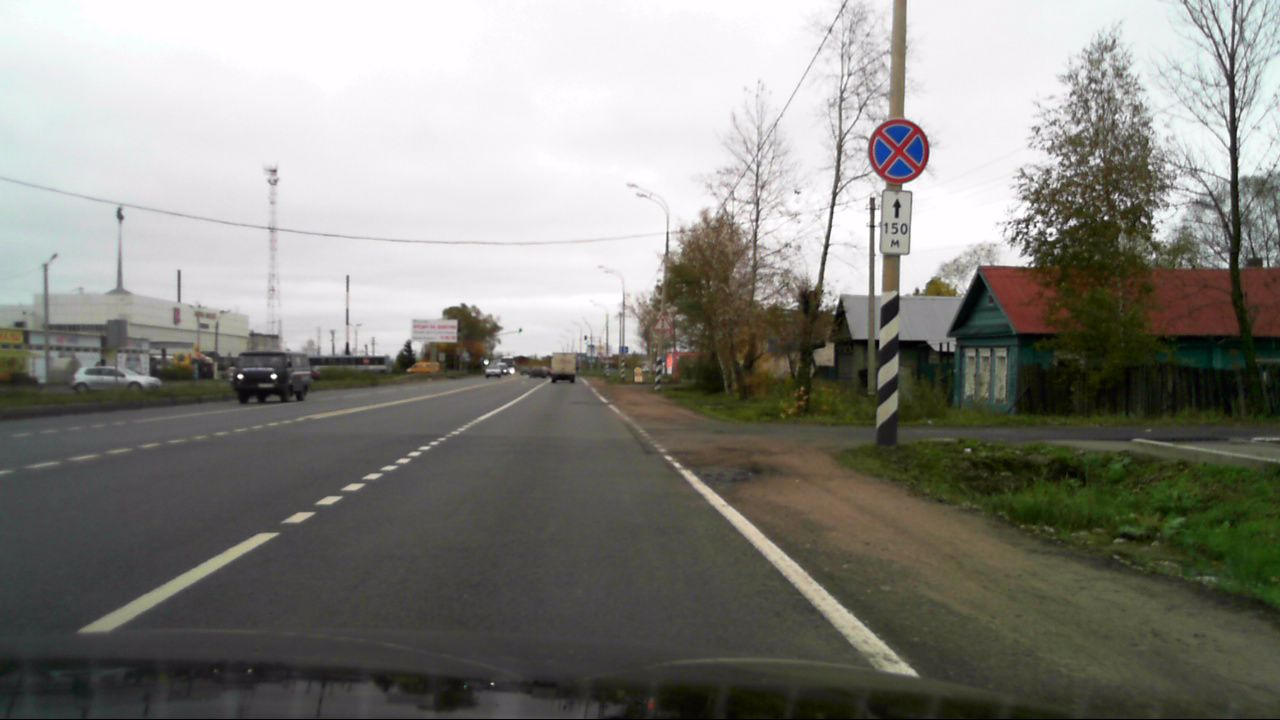No Parking: (870, 118, 928, 182)
